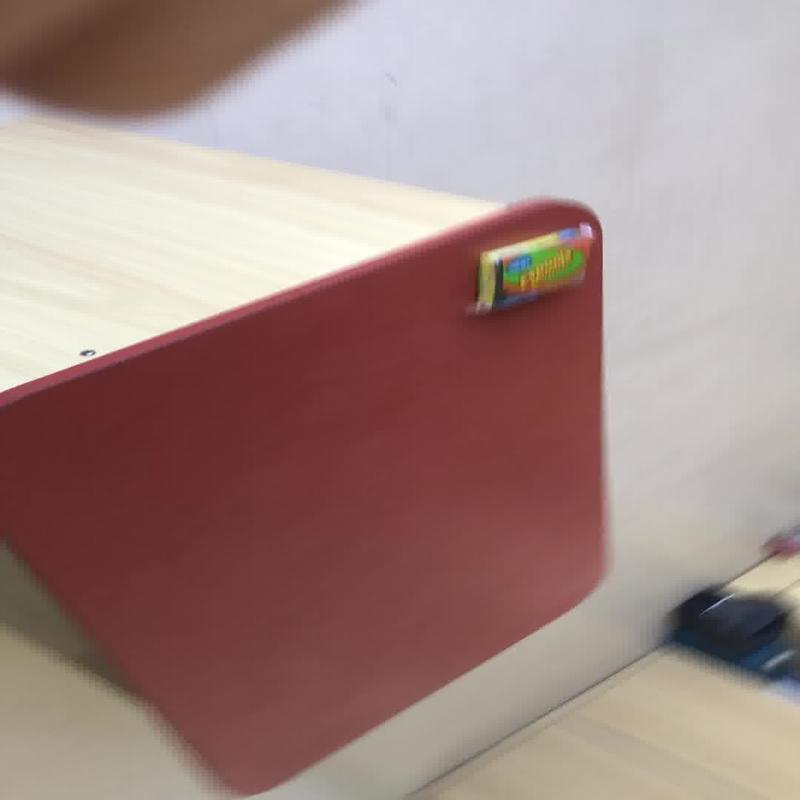sponge: (0, 112, 612, 795), (470, 222, 594, 314)
